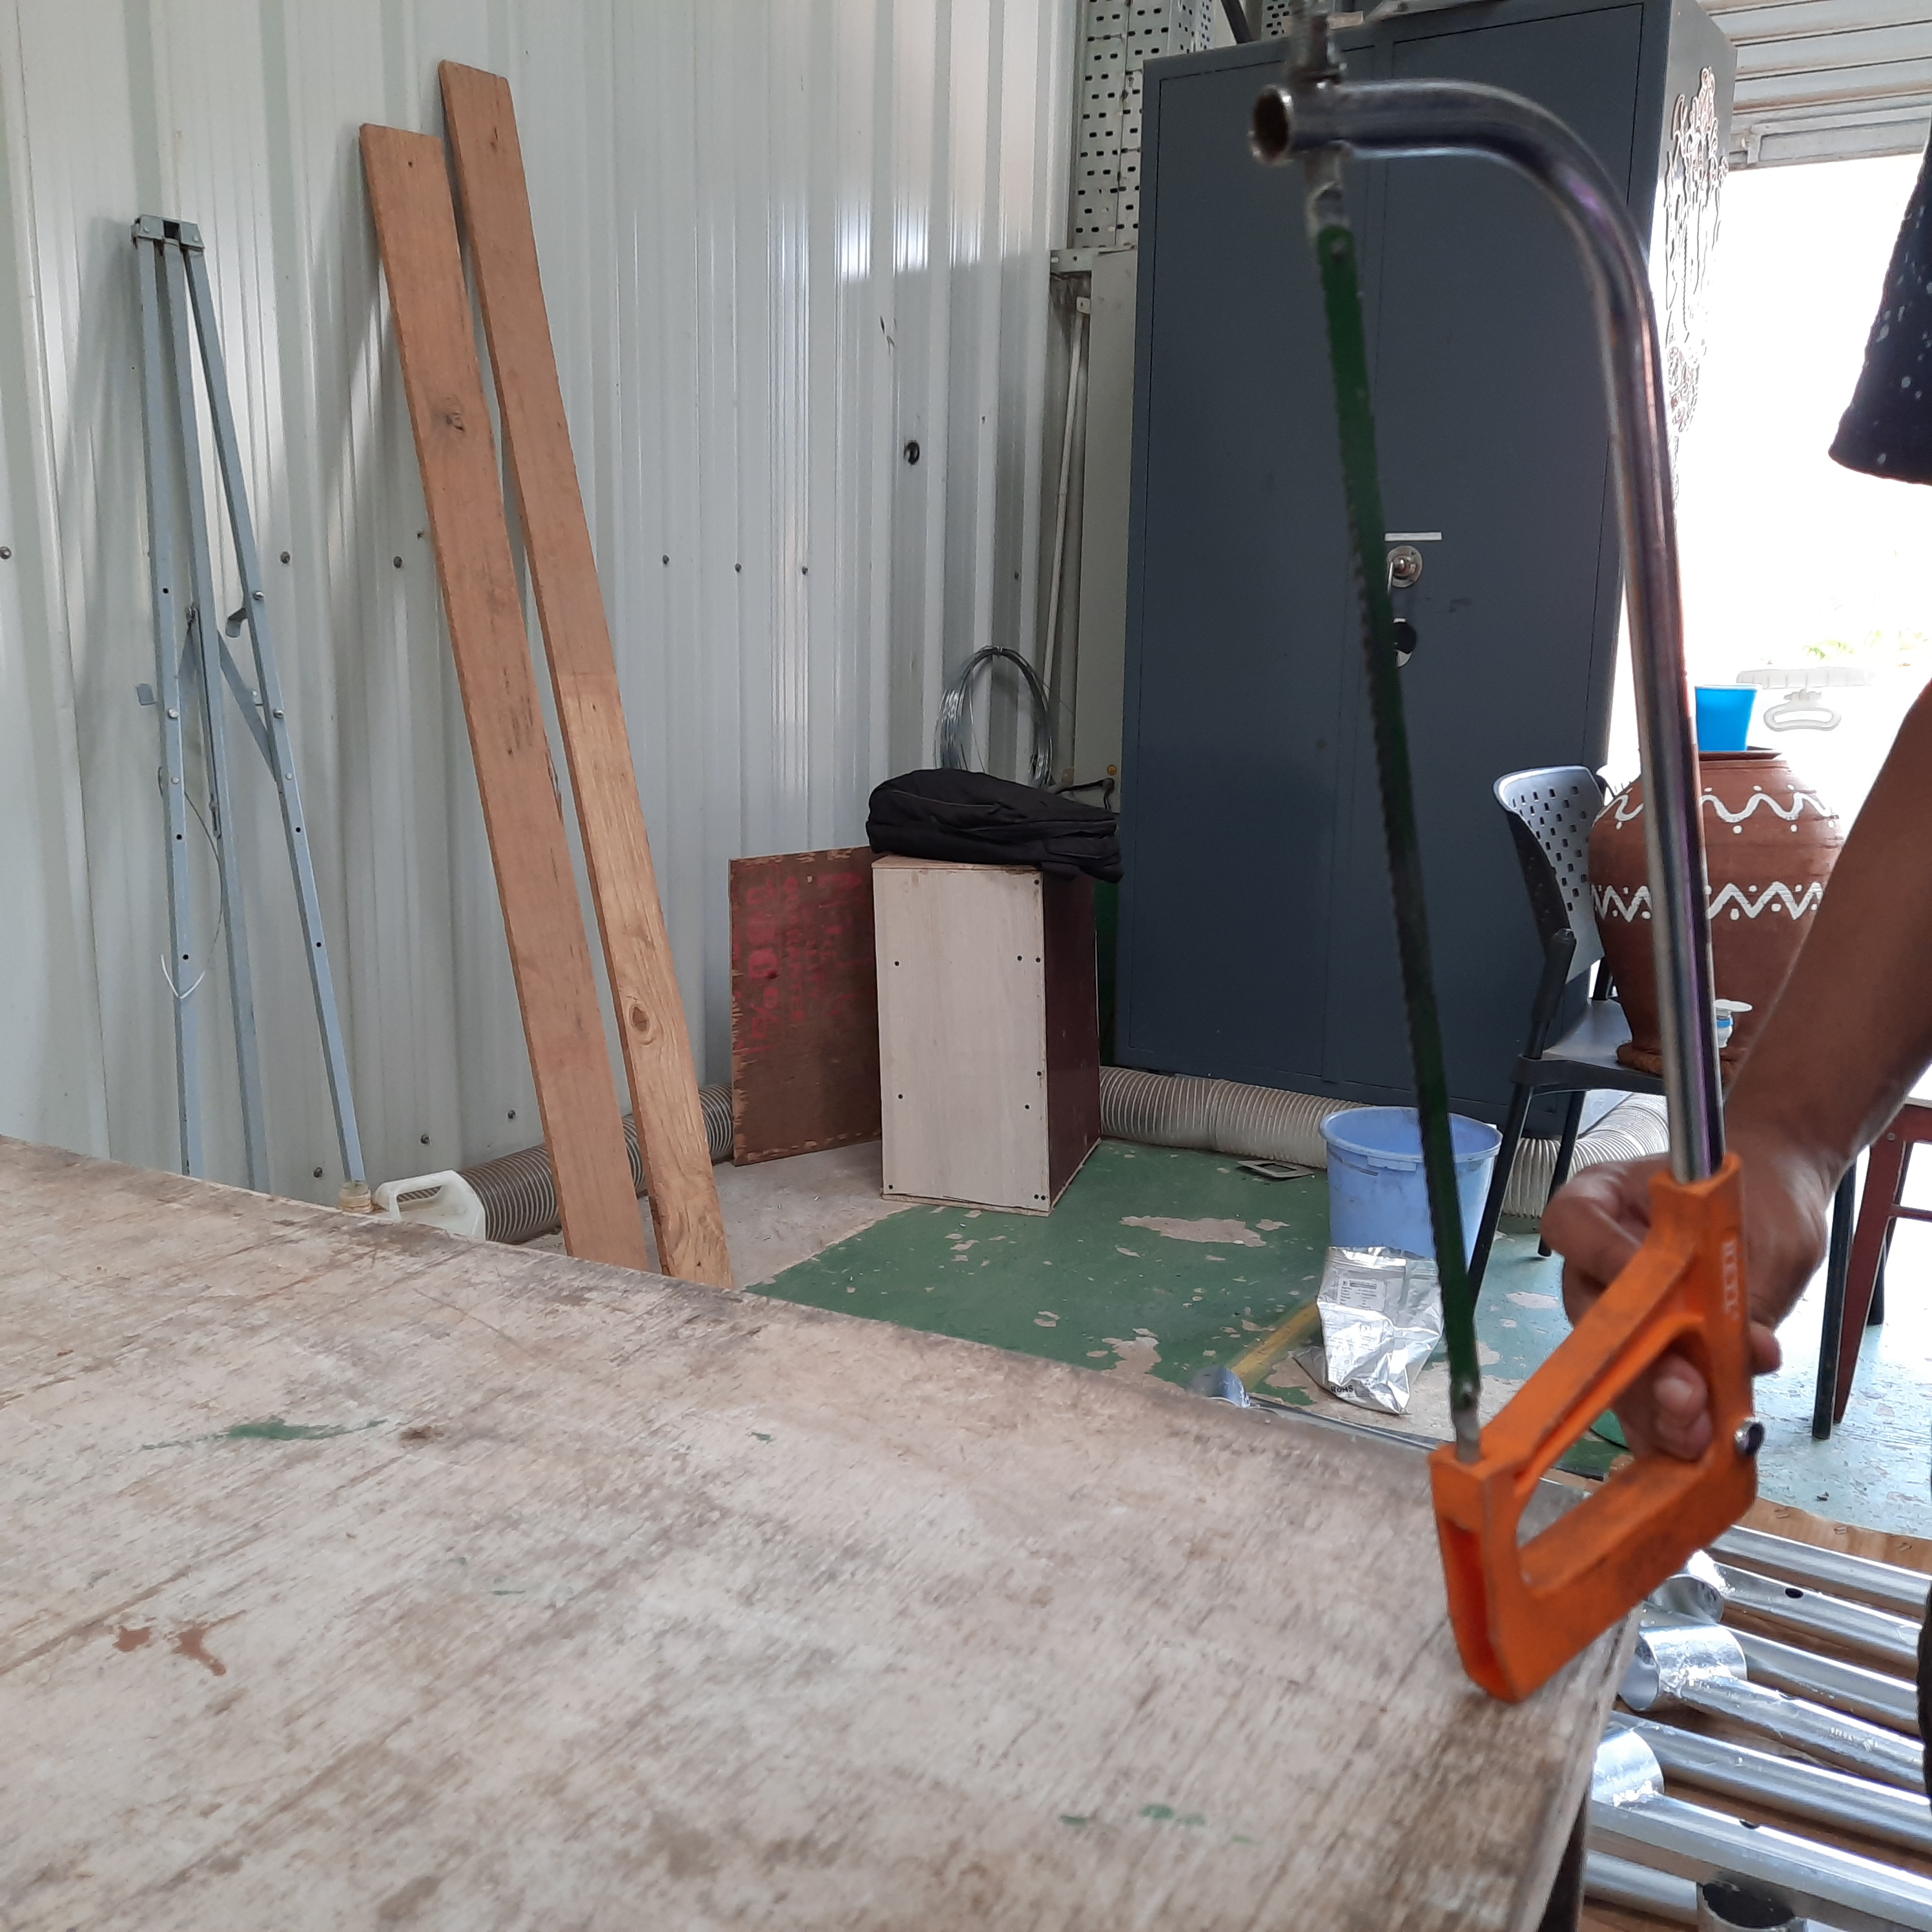Hexaframe: (1235, 7, 1840, 1707)
